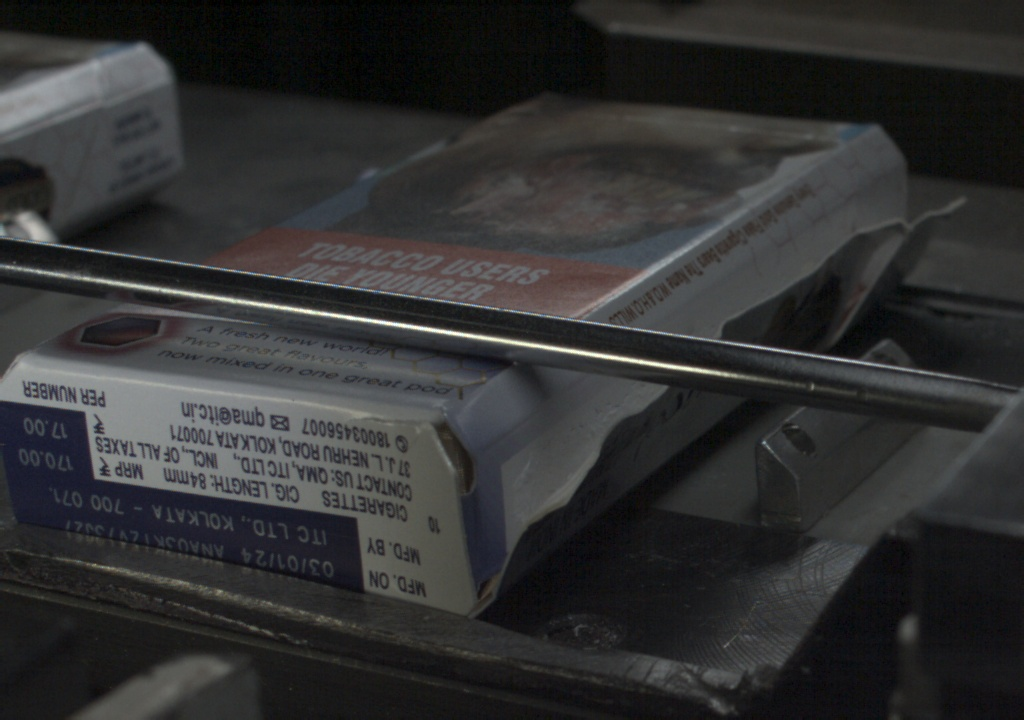g_label: (1, 478, 361, 590)
ng_bottom: (366, 402, 481, 505)
ng_lmiter: (492, 429, 562, 589), (566, 377, 639, 485), (700, 244, 781, 334), (781, 192, 858, 276)
ng_miter: (869, 150, 962, 251)
price: (1, 407, 93, 480)
